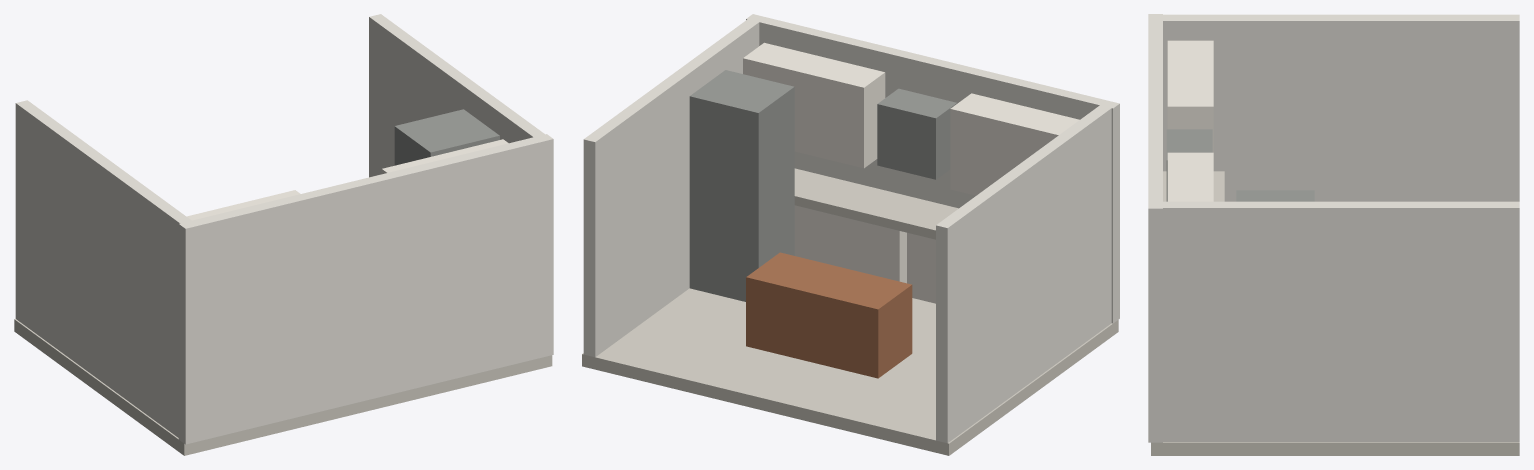
The model's file is kitchen-study.glb.
3 renders of one model, left to right at view 1: azimuth 30°, elevation 25°; view 2: azimuth 150°, elevation 25°; view 3: azimuth 270°, elevation 25°, orthographic. The views are drawn at different scales.
Parts seen in each view (by area): view 1: wall (×3), floor, fridge, upper-right, upper-left; view 2: wall (×3), floor, fridge, island, upper-right, upper-left, hood, base-right, counter, base-left; view 3: wall (×3), floor, upper-left, upper-right, hood, fridge, counter.
Part boxes in pixels (x1,y1,x2,y2): wall (×3): (15,14,553,444); floor: (14,319,552,455); fridge: (394,109,499,165); upper-right: (381,139,508,174); upper-left: (186,190,300,220); wall (×3): (583,14,1119,443); floor: (582,288,1118,455); fridge: (689,70,794,301); island: (746,252,912,378); upper-right: (743,42,885,168); upper-left: (950,93,1079,195); hood: (877,88,957,179); base-right: (794,205,906,283); counter: (794,168,958,239); base-left: (907,232,935,303); wall (×3): (1148,14,1519,442); floor: (1151,442,1519,455); upper-left: (1167,40,1213,152); upper-right: (1167,152,1213,201); hood: (1166,129,1212,201); fridge: (1236,190,1314,201); counter: (1163,171,1224,201).
Bounding box in the file's own units: 5 × 2.96 × 4.03.
